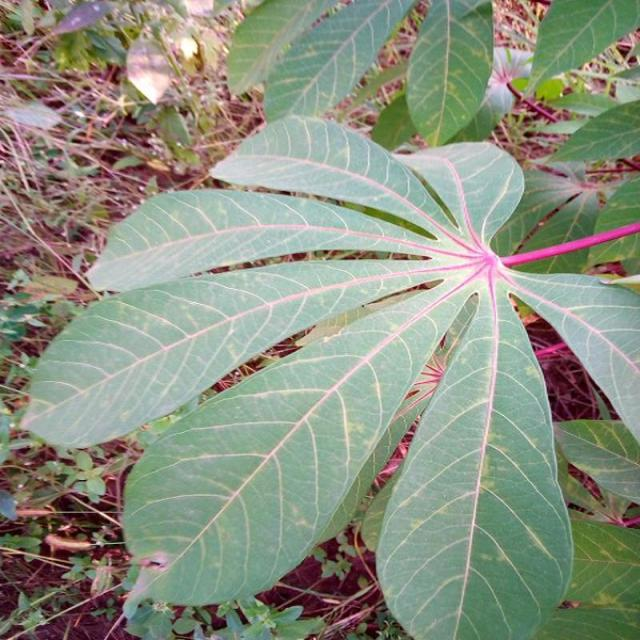cassava leaf: (21, 113, 638, 637), (374, 273, 574, 638)
